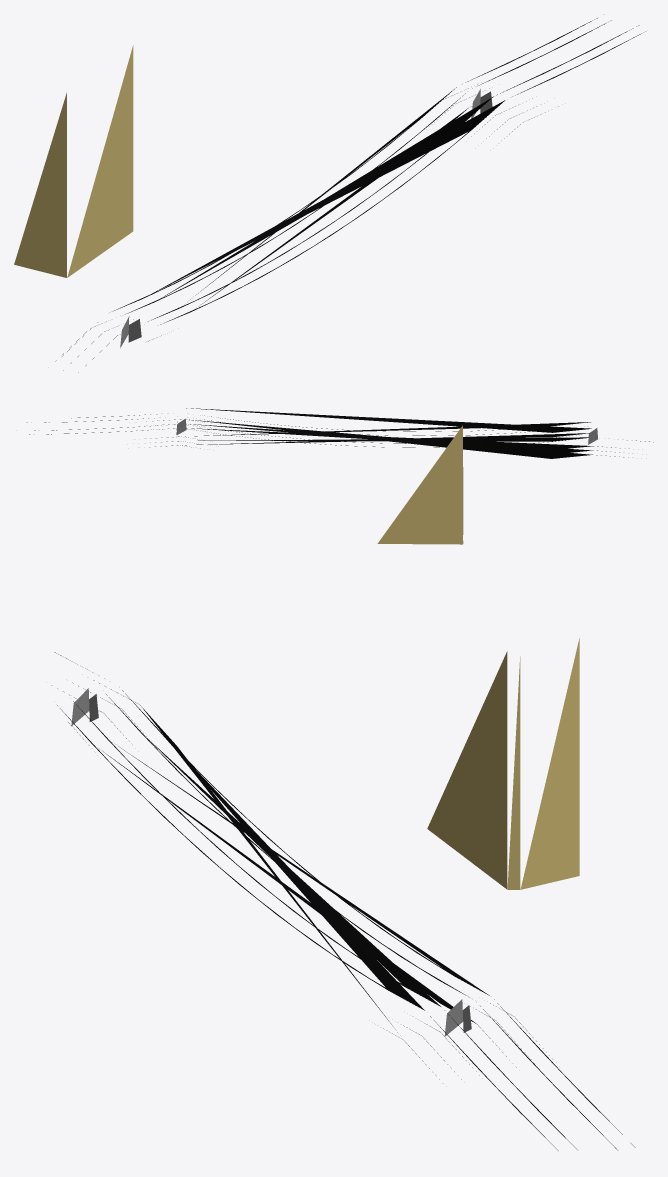
3 renders of one model, top to bottom at view 1: azimuth 30°, elevation 25°; view 2: azimuth 150°, elevation 25°; view 3: azimuth 270°, elevation 25°, orthographic. The views are drawn at different scales.
Bounding box in the file's own units: 225 × 50 × 114.
